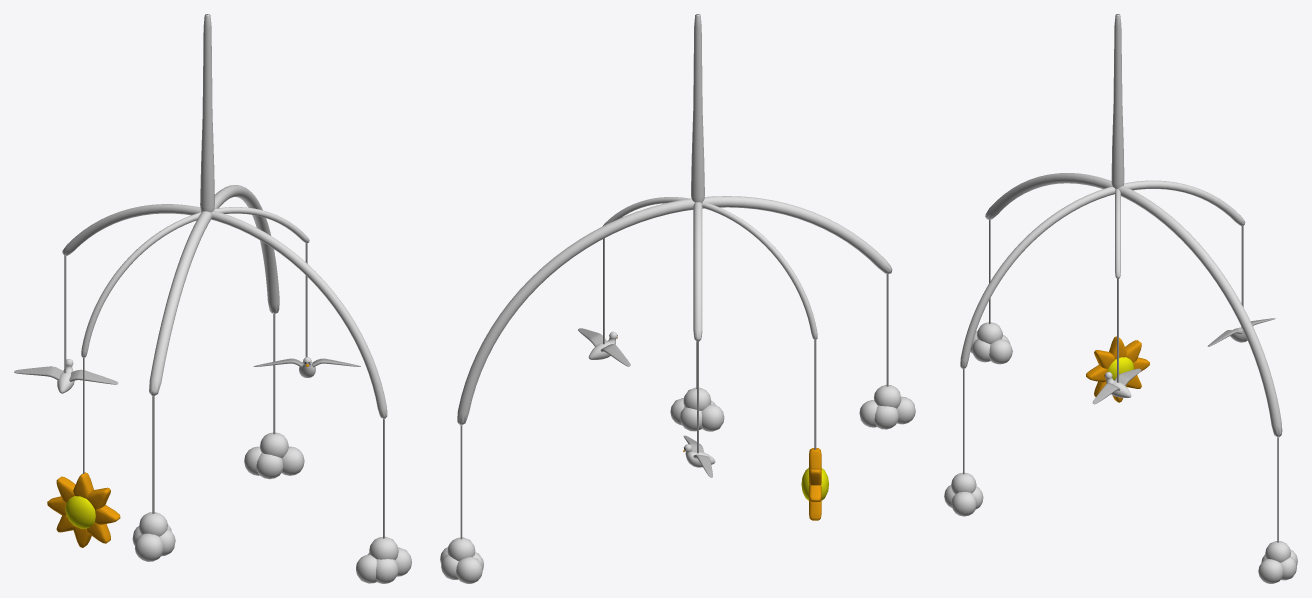
The model's file is SkyMobile.fbx.
3 renders of one model, left to right at view 1: azimuth 30°, elevation 25°; view 2: azimuth 150°, elevation 25°; view 3: azimuth 270°, elevation 25°, orthographic. The views are drawn at different scales.
Parts seen in each view (by area): view 1: CurveMedium, CurveBig, Sun, Suspension, CurveSmall, Cloud, Cloud1, Cloud2, Seagull, Seagull1; view 2: CurveBig, Suspension, CurveSmall, Cloud2, Cloud1, Cloud, CurveMedium, Sun, Seagull1, Seagull; view 3: CurveBig, CurveMedium, Sun, Suspension, Cloud2, Cloud, Cloud1, Seagull1, CurveSmall.
Part boxes in pixels (<box>): CurveMedium: <box>62,204,387,419</box>; CurveBig: <box>149,185,279,396</box>; Sun: <box>47,472,120,547</box>; Suspension: <box>200,14,214,212</box>; CurveSmall: <box>81,207,309,357</box>; Cloud: <box>244,432,304,479</box>; Cloud1: <box>356,536,411,583</box>; Cloud2: <box>132,512,175,561</box>; Seagull: <box>14,359,118,393</box>; Seagull1: <box>253,357,360,377</box>; CurveBig: <box>457,196,892,425</box>; Suspension: <box>691,14,704,203</box>; CurveSmall: <box>602,197,817,339</box>; Cloud2: <box>859,384,915,429</box>; Cloud1: <box>670,387,724,431</box>; Cloud: <box>440,537,483,583</box>; CurveMedium: <box>693,202,702,342</box>; Sun: <box>801,448,828,520</box>; Seagull1: <box>578,328,630,366</box>; Seagull: <box>683,435,715,477</box>; CurveBig: <box>985,173,1282,437</box>; CurveMedium: <box>960,180,1245,369</box>; Sun: <box>1086,336,1149,402</box>; Suspension: <box>1111,14,1124,189</box>; Cloud2: <box>970,322,1012,364</box>; Cloud: <box>1258,541,1297,583</box>; Cloud1: <box>944,472,983,516</box>; Seagull1: <box>1092,368,1141,404</box>; CurveSmall: <box>1115,189,1120,279</box>.
Size of the model in its own units: 11.32 by 18.38 by 11.9.
